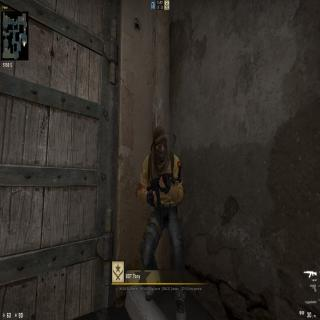T-Head: (150, 124, 170, 166)
